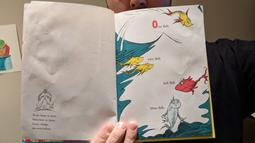text block: (31, 110, 58, 132), (147, 16, 170, 30), (142, 53, 163, 62), (159, 78, 178, 86), (147, 102, 165, 110)
